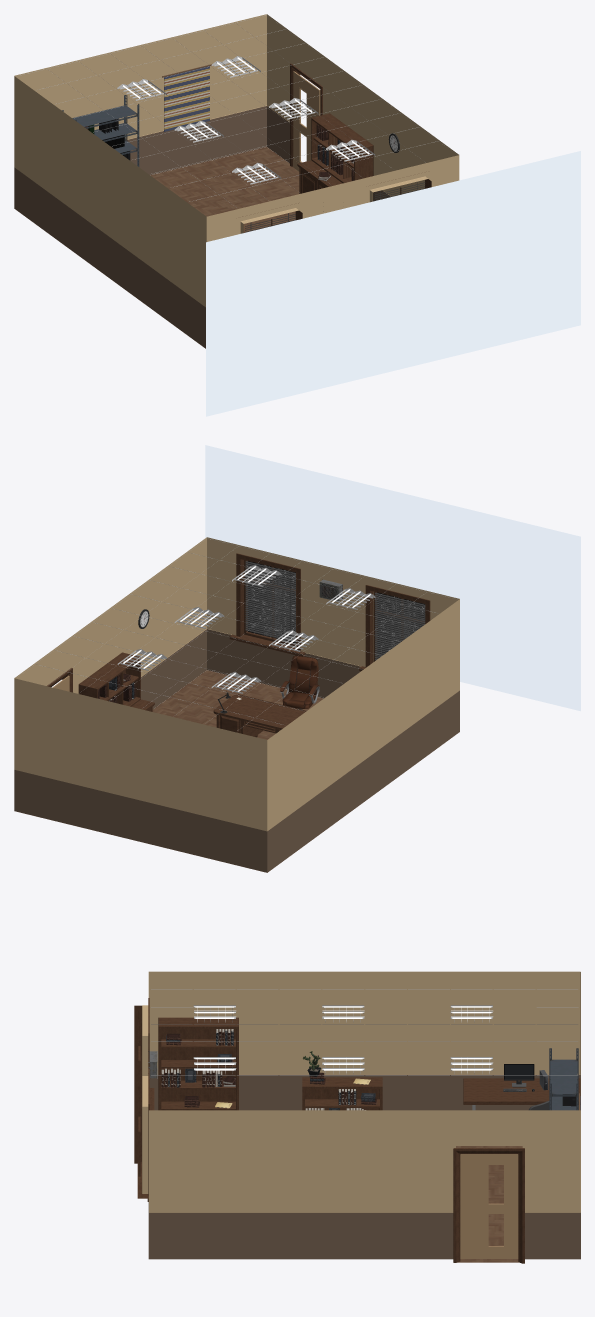
The model's file is office.glb.
3 renders of one model, top to bottom at view 1: azimuth 30°, elevation 25°; view 2: azimuth 150°, elevation 25°; view 3: azimuth 270°, elevation 25°, orthographic. The views are drawn at different scales.
Parts seen in each view (by area): view 1: ENV_Exterior_DaylightCard.001, ARCH_Walls__mesh02.001, ARCH_WallBand_PoliceStripes.001, ARCH_Walls__mesh01.001, ARCH_CeilingFixtures__mesh02.001, OFFICE_WovenHanging, STORAGE_Cabinet_Wall__mesh01.001, STORAGE_MetalShelf_CaseFiles__node25__mesh01.001, ARCH_Door_EvidenceRoom_PoliceKit__mesh01.001, ARCH_Ceiling__mesh01.001, STORAGE_Cabinet_Low__mesh02.001, ARCH_CeilingFixtures__mesh01.001 (+1 smaller); view 2: ARCH_Walls__mesh02.001, ENV_Exterior_DaylightCard.001, ARCH_WallBand_PoliceStripes.001, ARCH_Walls__mesh01.001, ARCH_WindowBlind_North__mesh01.001, ARCH_CeilingFixtures__mesh02.001, FURN_Desk_EvidenceReview__mesh02.001, ARCH_WindowBlind_South__mesh01.001, ARCH_Window_East_North__mesh03.001, STORAGE_Cabinet_Wall__mesh01.001, FURN_Chair_Officer__mesh01.001, ARCH_Ceiling__mesh01.001 (+5 smaller); view 3: ARCH_Walls__mesh02.001, ARCH_WallBand_PoliceStripes.001, STORAGE_Bookcase_CaseFiles__mesh01.001, ARCH_Door_EvidenceRoom_PoliceKit__mesh01.001, STORAGE_Sideboard_South__mesh01.001, FURN_Table_Records__mesh02.001, ARCH_DoorFrame_North__mesh01.001, ARCH_CeilingFixtures__mesh02.001, ARCH_Walls__mesh01.001, STORAGE_MetalShelf_CaseFiles__node25__mesh01.001, ARCH_CeilingFixtures__mesh01.001, ARCH_Ceiling__mesh01.001 (+4 smaller).
Part boxes in pixels (x1=…): ENV_Exterior_DaylightCard.001: x1=206, y1=151, x2=580, y2=416; ARCH_Walls__mesh02.001: x1=14, y1=14, x2=459, y2=307; ARCH_WallBand_PoliceStripes.001: x1=14, y1=106, x2=390, y2=348; ARCH_Walls__mesh01.001: x1=15, y1=147, x2=299, y2=348; ARCH_CeilingFixtures__mesh02.001: x1=117, y1=56, x2=375, y2=184; OFFICE_WovenHanging: x1=164, y1=66, x2=209, y2=131; STORAGE_Cabinet_Wall__mesh01.001: x1=311, y1=113, x2=373, y2=183; STORAGE_MetalShelf_CaseFiles__node25__mesh01.001: x1=62, y1=95, x2=139, y2=166; ARCH_Door_EvidenceRoom_PoliceKit__mesh01.001: x1=293, y1=71, x2=320, y2=171; ARCH_Ceiling__mesh01.001: x1=17, y1=15, x2=444, y2=207; STORAGE_Cabinet_Low__mesh02.001: x1=297, y1=160, x2=373, y2=193; ARCH_CeilingFixtures__mesh01.001: x1=122, y1=57, x2=369, y2=182; ARCH_Walls__mesh02.001: x1=14, y1=537, x2=459, y2=831; ENV_Exterior_DaylightCard.001: x1=205, y1=445, x2=580, y2=711; ARCH_WallBand_PoliceStripes.001: x1=14, y1=629, x2=459, y2=872; ARCH_Walls__mesh01.001: x1=18, y1=670, x2=459, y2=872; ARCH_WindowBlind_North__mesh01.001: x1=245, y1=561, x2=295, y2=642; ARCH_CeilingFixtures__mesh02.001: x1=117, y1=565, x2=375, y2=693; FURN_Desk_EvidenceReview__mesh02.001: x1=213, y1=694, x2=306, y2=737; ARCH_WindowBlind_South__mesh01.001: x1=374, y1=592, x2=425, y2=660; ARCH_Window_East_North__mesh03.001: x1=229, y1=553, x2=305, y2=656; STORAGE_Cabinet_Wall__mesh01.001: x1=78, y1=652, x2=140, y2=706; FURN_Chair_Officer__mesh01.001: x1=280, y1=655, x2=319, y2=709; ARCH_Ceiling__mesh01.001: x1=18, y1=538, x2=456, y2=730; ARCH_Walls__mesh02.001: x1=142, y1=971, x2=580, y2=1212; ARCH_WallBand_PoliceStripes.001: x1=148, y1=1074, x2=580, y2=1259; STORAGE_Bookcase_CaseFiles__mesh01.001: x1=158, y1=1017, x2=238, y2=1110; ARCH_Door_EvidenceRoom_PoliceKit__mesh01.001: x1=460, y1=1154, x2=518, y2=1258; STORAGE_Sideboard_South__mesh01.001: x1=302, y1=1077, x2=382, y2=1110; FURN_Table_Records__mesh02.001: x1=463, y1=1078, x2=580, y2=1104; ARCH_DoorFrame_North__mesh01.001: x1=453, y1=1148, x2=524, y2=1263; ARCH_CeilingFixtures__mesh02.001: x1=193, y1=1005, x2=493, y2=1073; ARCH_Walls__mesh01.001: x1=456, y1=1146, x2=522, y2=1262; STORAGE_MetalShelf_CaseFiles__node25__mesh01.001: x1=549, y1=1048, x2=578, y2=1110; ARCH_CeilingFixtures__mesh01.001: x1=195, y1=1006, x2=491, y2=1070; ARCH_Ceiling__mesh01.001: x1=151, y1=989, x2=578, y2=1075.
Size of the model in its own units: 9 by 4 by 10.49.
45 materials, 21 textured.
